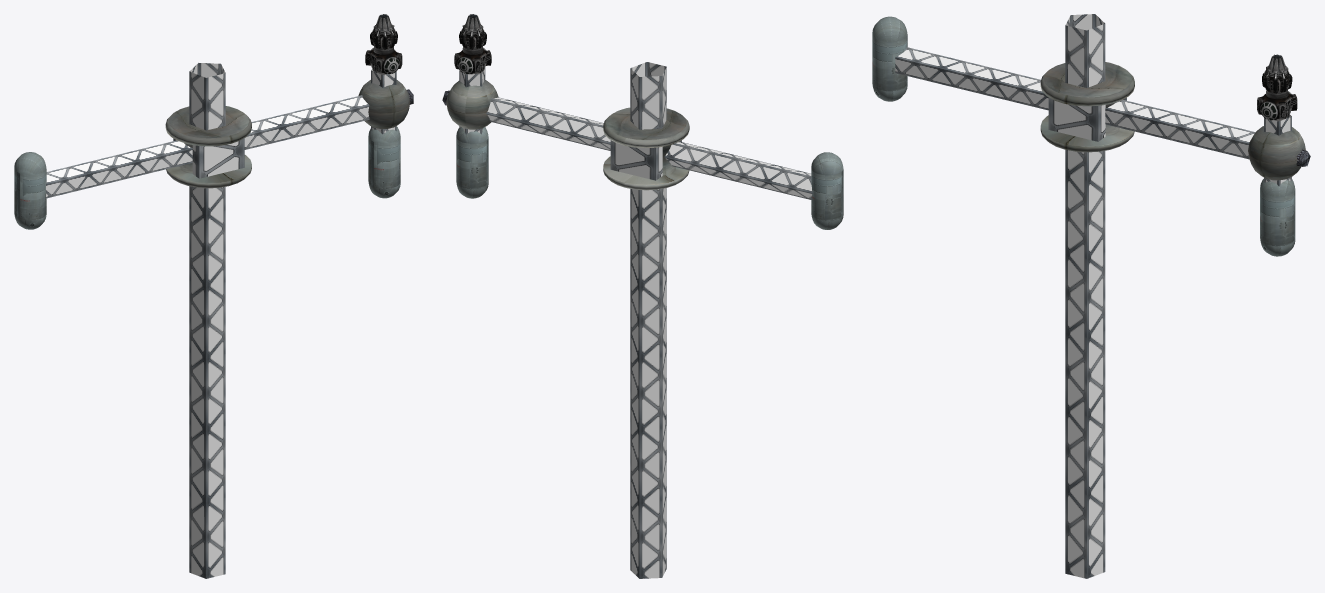
File: MiddleAssemblyRocketArm.fbx
The picture shows the model from 3 angles, left to right: view 1: azimuth 30°, elevation 25°; view 2: azimuth 150°, elevation 25°; view 3: azimuth 330°, elevation 25°; orthographic projection. The views are drawn at different scales.
Parts seen in each view (by area): view 1: Circle.005, Cylinder.001; view 2: Circle.005, Cylinder.001; view 3: Circle.005, Cylinder.001.
Boxes of the visible parts, x1,y1,x2,y2 form: Circle.005: [14, 14, 413, 229]; Cylinder.001: [189, 63, 225, 578]; Circle.005: [442, 14, 843, 229]; Cylinder.001: [630, 62, 666, 578]; Circle.005: [872, 16, 1310, 256]; Cylinder.001: [1065, 14, 1105, 578].
Size of the model in its own units: 2368 by 2939 by 449.
